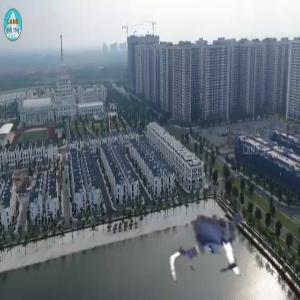drone: (161, 194, 266, 299)
